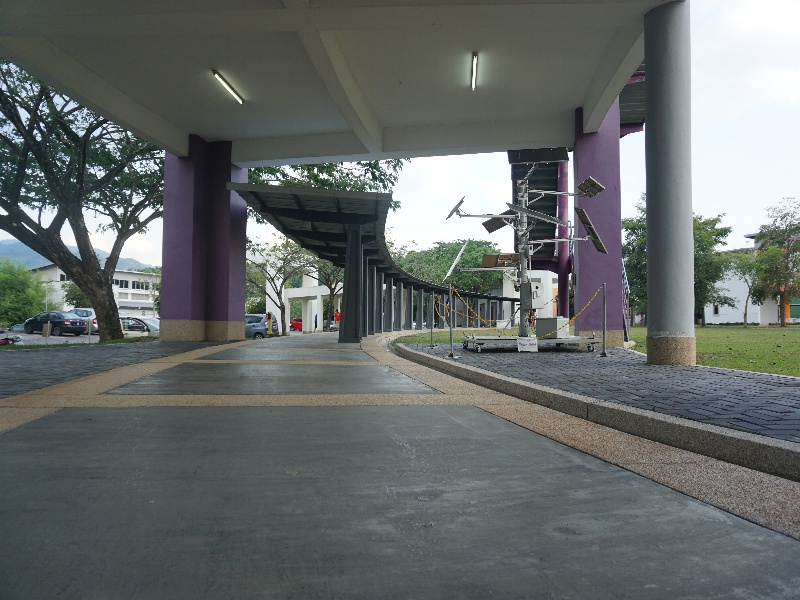Block D Pillar 5: (1, 1, 792, 452)
pillar: (639, 4, 706, 369), (156, 130, 252, 350), (575, 94, 629, 349), (339, 222, 363, 344)
